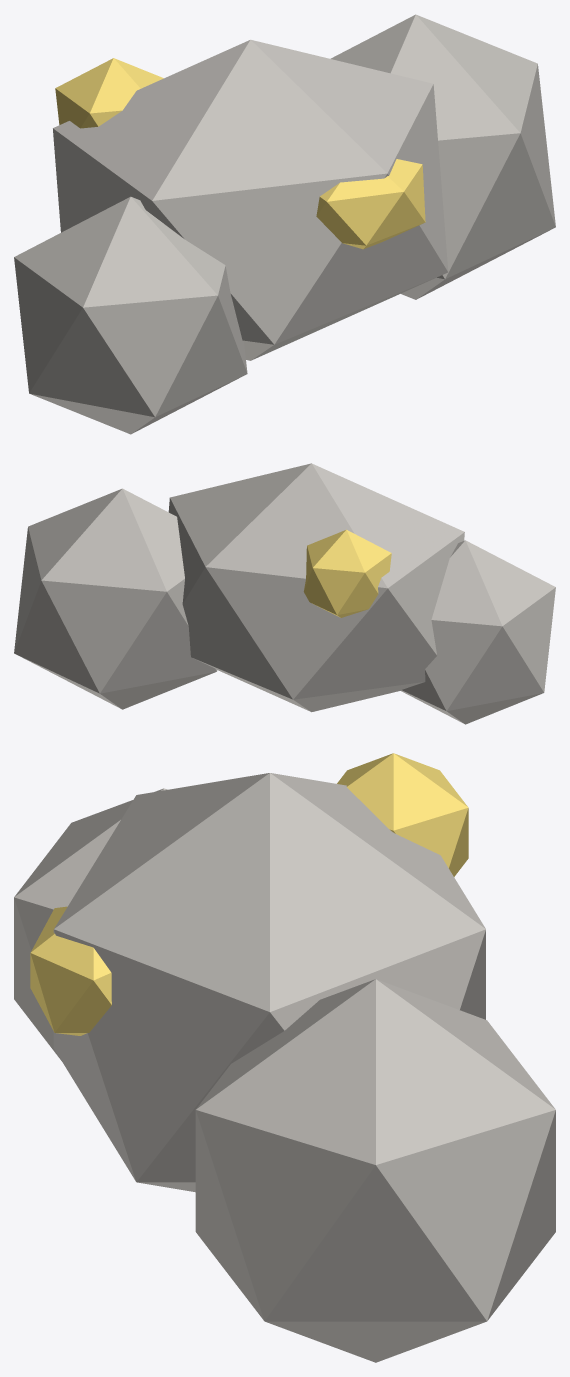
File: GoldRock.fbx
3 views of the same model, one above another, from view 1: azimuth 30°, elevation 25°; view 2: azimuth 150°, elevation 25°; view 3: azimuth 270°, elevation 25° (orthographic). The views are drawn at different scales.
Visible parts, largest first — view 1: Rock1, Rock3, Rock2, Gold1, Gold2; view 2: Rock1, Rock2, Rock3, Gold2; view 3: Rock2, Rock1, Gold2, Rock3, Gold1.
Part boxes in pixels (x1=…): Rock1: x1=53, y1=39, x2=448, y2=360; Rock3: x1=14, y1=196, x2=247, y2=434; Rock2: x1=330, y1=14, x2=555, y2=299; Gold1: x1=316, y1=159, x2=425, y2=249; Gold2: x1=55, y1=58, x2=163, y2=128; Rock1: x1=168, y1=463, x2=464, y2=712; Rock2: x1=14, y1=488, x2=217, y2=709; Rock3: x1=401, y1=540, x2=555, y2=724; Gold2: x1=303, y1=529, x2=391, y2=617; Rock2: x1=195, y1=979, x2=555, y2=1362; Rock1: x1=53, y1=773, x2=485, y2=1192; Gold2: x1=337, y1=753, x2=468, y2=876; Rock3: x1=14, y1=788, x2=167, y2=1060; Gold1: x1=30, y1=906, x2=111, y2=1035.
Size of the model in its own units: 258 by 142 by 154.
